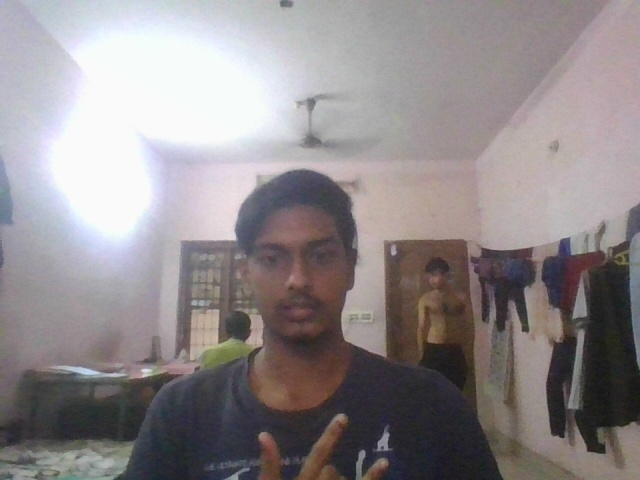iloveyou: (250, 409, 393, 480)
